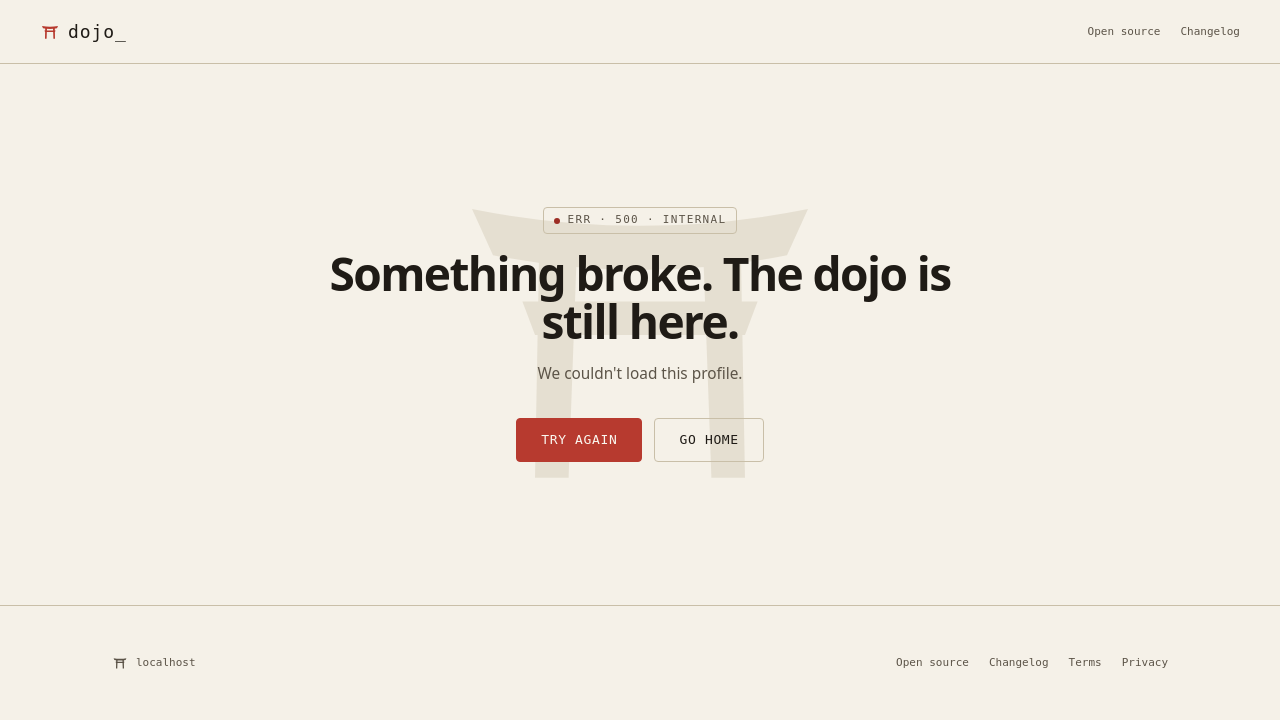
PublicProfilePage › renders the generic internal error with a retry that refetches
The width and height of the screenshot is (1280, 720).
Check: the text "We couldn't load this profile." is shown, box [538, 362, 742, 386]
Click the button "Try again" at (579,440), box [516, 418, 642, 462]
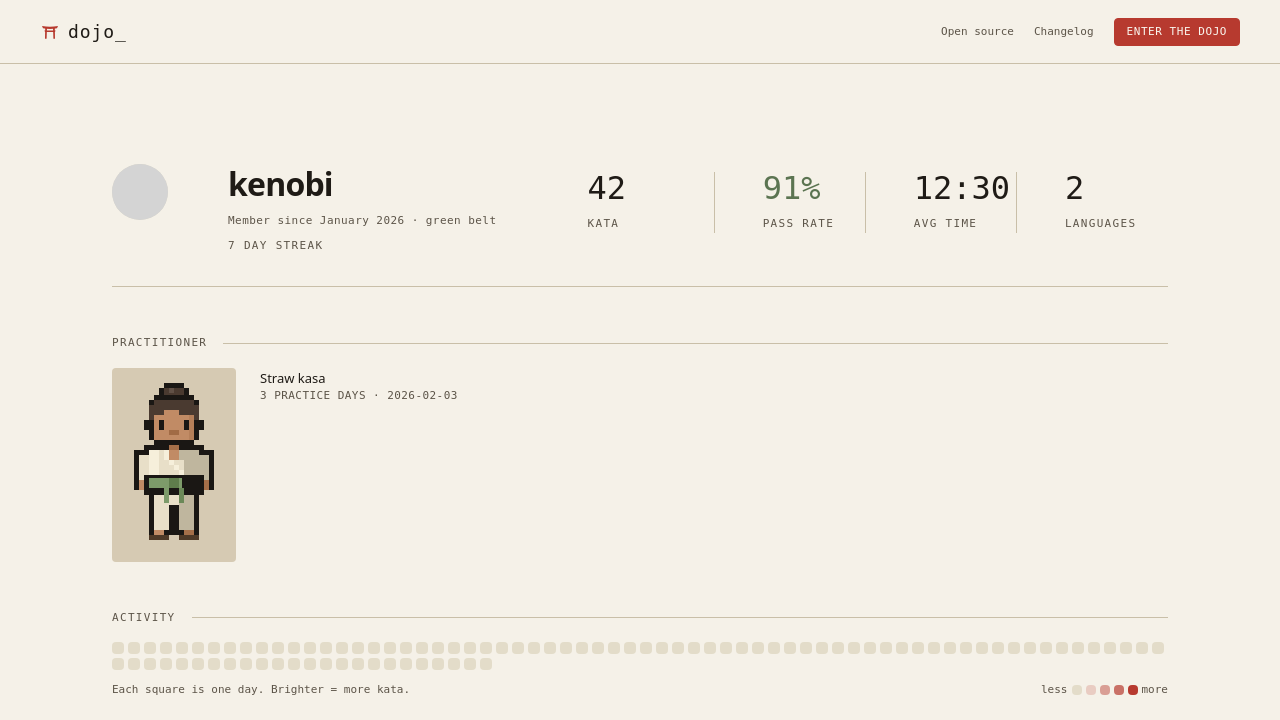
Check: the heading "kenobi" is shown, box [228, 162, 333, 205]
Check: the text "We couldn't load this profile." is gone
